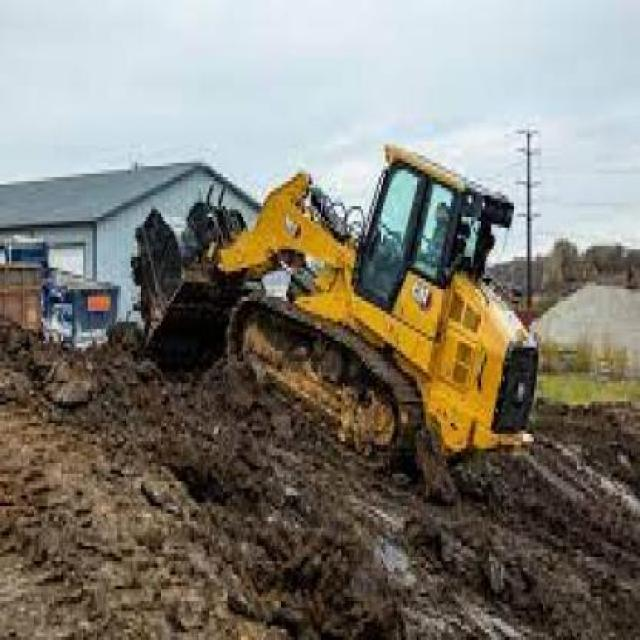buldozerpayloadergrader: (121, 103, 617, 487)
